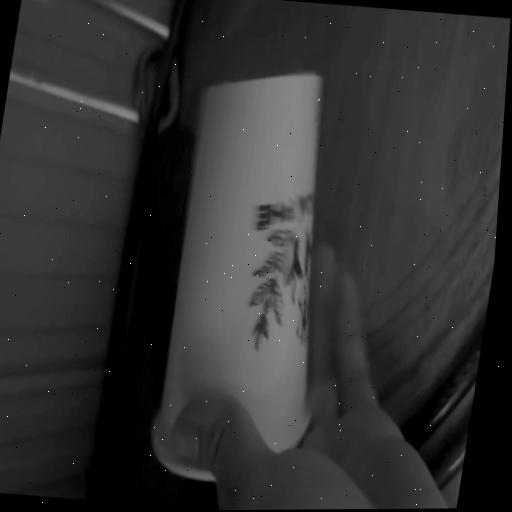Ly_giay: (154, 73, 322, 479)
